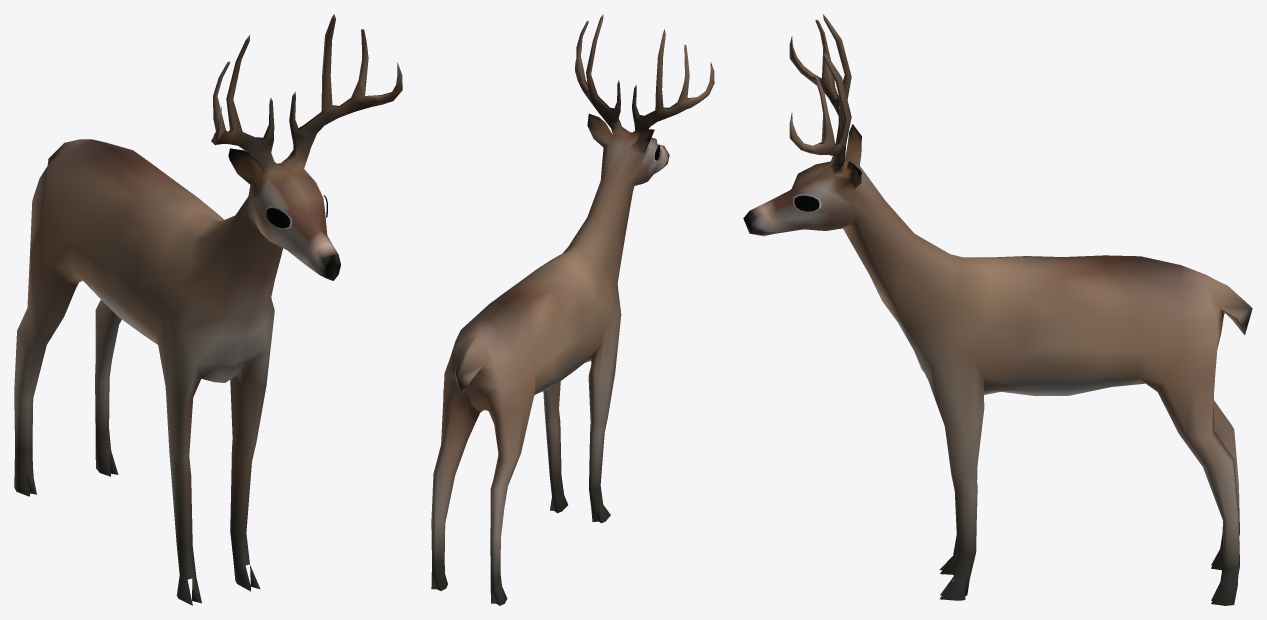
The model's file is kit-deer.glb.
3 renders of one model, left to right at view 1: azimuth 30°, elevation 25°; view 2: azimuth 150°, elevation 25°; view 3: azimuth 270°, elevation 25°, orthographic. The views are drawn at different scales.
Visible parts, largest first — view 1: alt584; view 2: alt584; view 3: alt584.
Boxes of the visible parts, x1,y1,x2,y2 form: alt584: [14, 14, 402, 605]; alt584: [431, 14, 714, 605]; alt584: [743, 14, 1252, 605].
Bounding box in the file's own units: 0.696 × 2.21 × 1.84.
